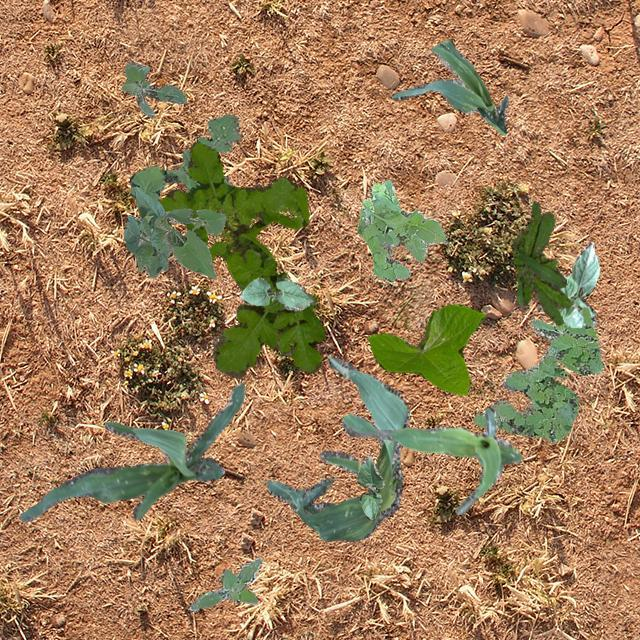crop: (18, 382, 244, 520), (266, 354, 408, 540), (340, 406, 520, 514), (390, 38, 508, 134), (368, 302, 484, 394), (123, 185, 225, 278), (556, 240, 598, 326), (238, 276, 314, 310), (356, 454, 384, 518)
weed: (158, 140, 324, 378), (472, 306, 602, 442), (128, 114, 240, 200), (356, 178, 446, 280), (512, 200, 570, 324), (188, 556, 260, 610), (120, 60, 186, 116)
